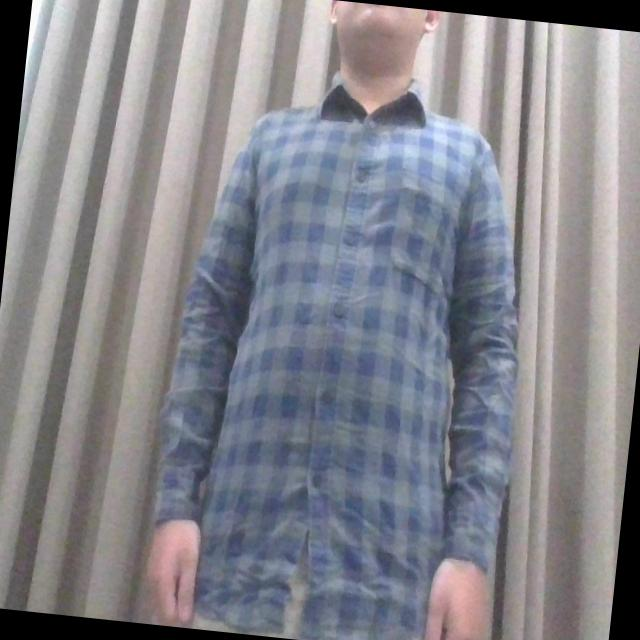long_Sleeve_shirt: (154, 85, 518, 640)
